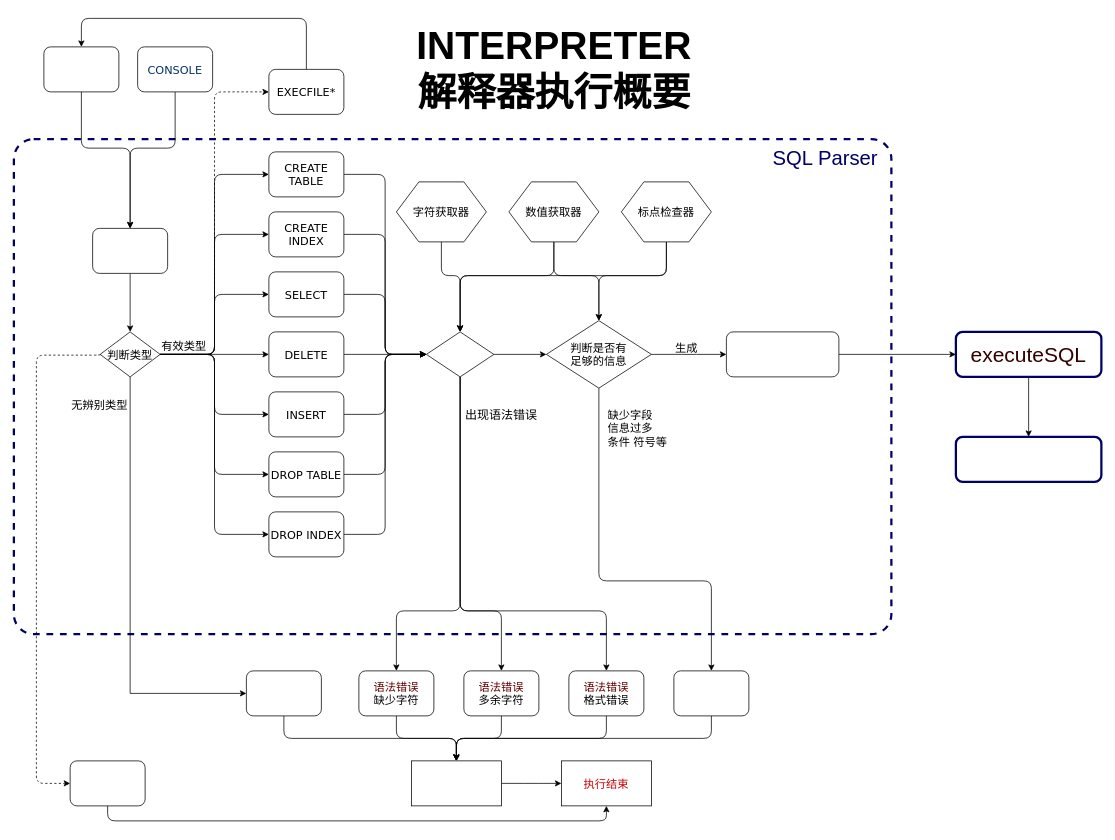
Some shapes in this 1115 by 840 pixel diagram are drawn without their labels. The shapes that lost their labels are listed below. From the top down, each one's centre as x and y in pixels, then its label:
(x=81, y=69): SQL FILE
(x=130, y=250): 拆解SQL语句
(x=460, y=354): 语法检查
(x=782, y=354): SQL_statement 对象
(x=1028, y=459): API
(x=283, y=693): 语法错误 需要合规类型
(x=711, y=693): 语法错误 信息不兼容
(x=107, y=783): QUIT*
(x=456, y=783): 返回错误信息
